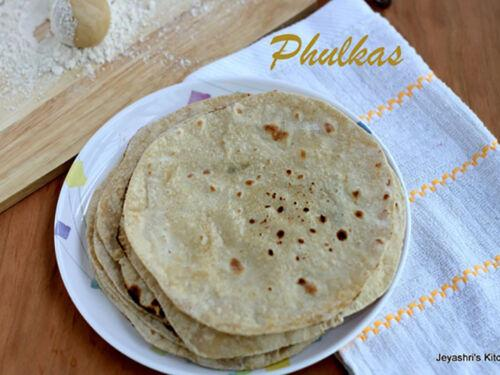roti phulka: (86, 92, 407, 369)
